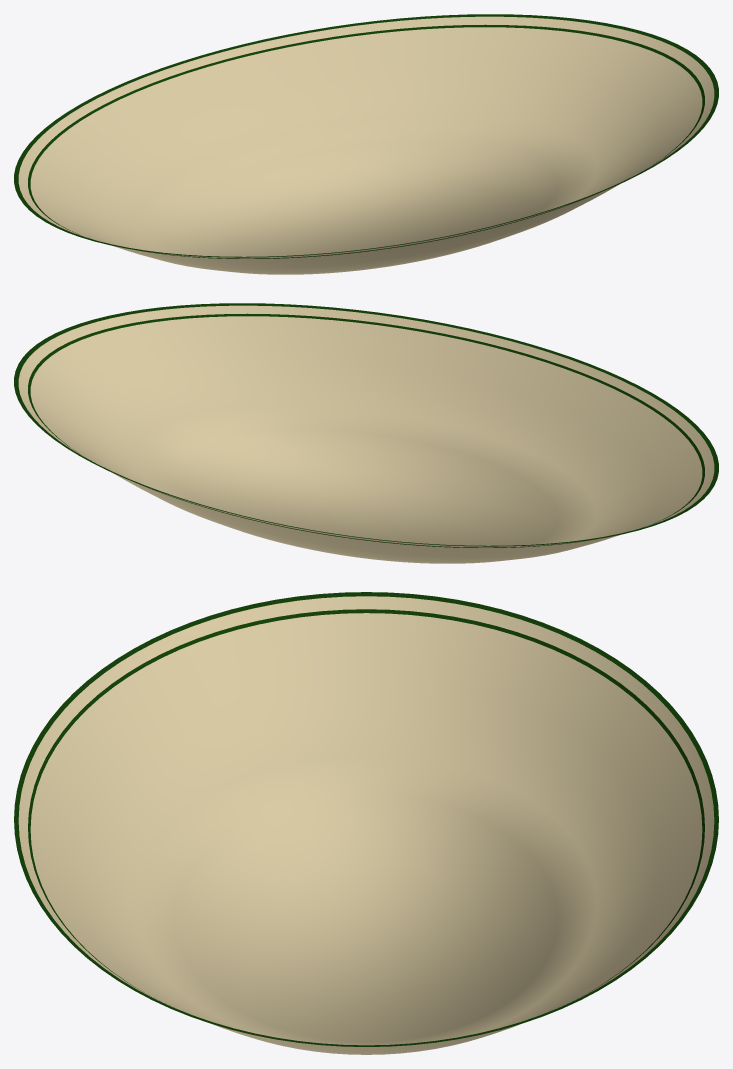
3 views of the same model, one above another, from view 1: azimuth 30°, elevation 25°; view 2: azimuth 150°, elevation 25°; view 3: azimuth 270°, elevation 25° (orthographic). The views are drawn at different scales.
Visible parts, largest first — view 1: Sphere, Sphere.001, Sphere.002; view 2: Sphere, Sphere.001, Sphere.002; view 3: Sphere, Sphere.001, Sphere.002.
Part boxes in pixels (left/top/right/bottom): Sphere: left=18, top=16, right=714, bottom=274; Sphere.001: left=14, top=14, right=718, bottom=257; Sphere.002: left=28, top=24, right=704, bottom=258; Sphere: left=18, top=305, right=714, bottom=563; Sphere.001: left=14, top=303, right=718, bottom=546; Sphere.002: left=28, top=313, right=704, bottom=547; Sphere: left=18, top=596, right=714, bottom=1054; Sphere.001: left=14, top=592, right=718, bottom=1046; Sphere.002: left=28, top=609, right=704, bottom=1007.
Bounding box in the file's own units: 0.2771 × 0.0313 × 0.1814.
